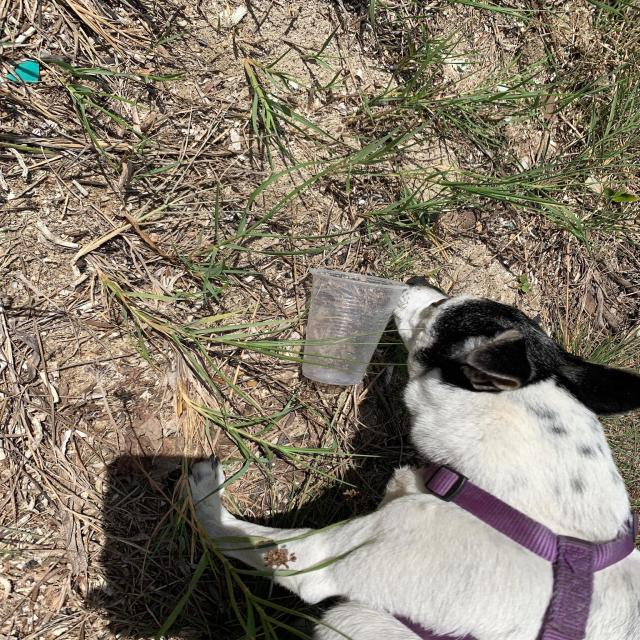litter: (301, 269, 409, 384)
